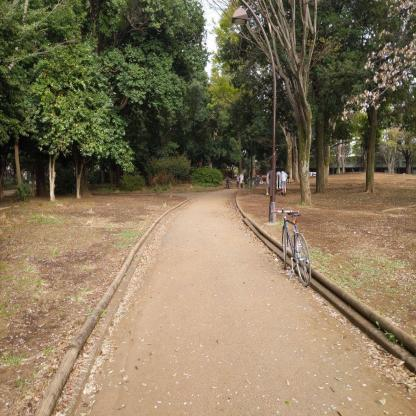Someiyoshino: (337, 0, 415, 144)
